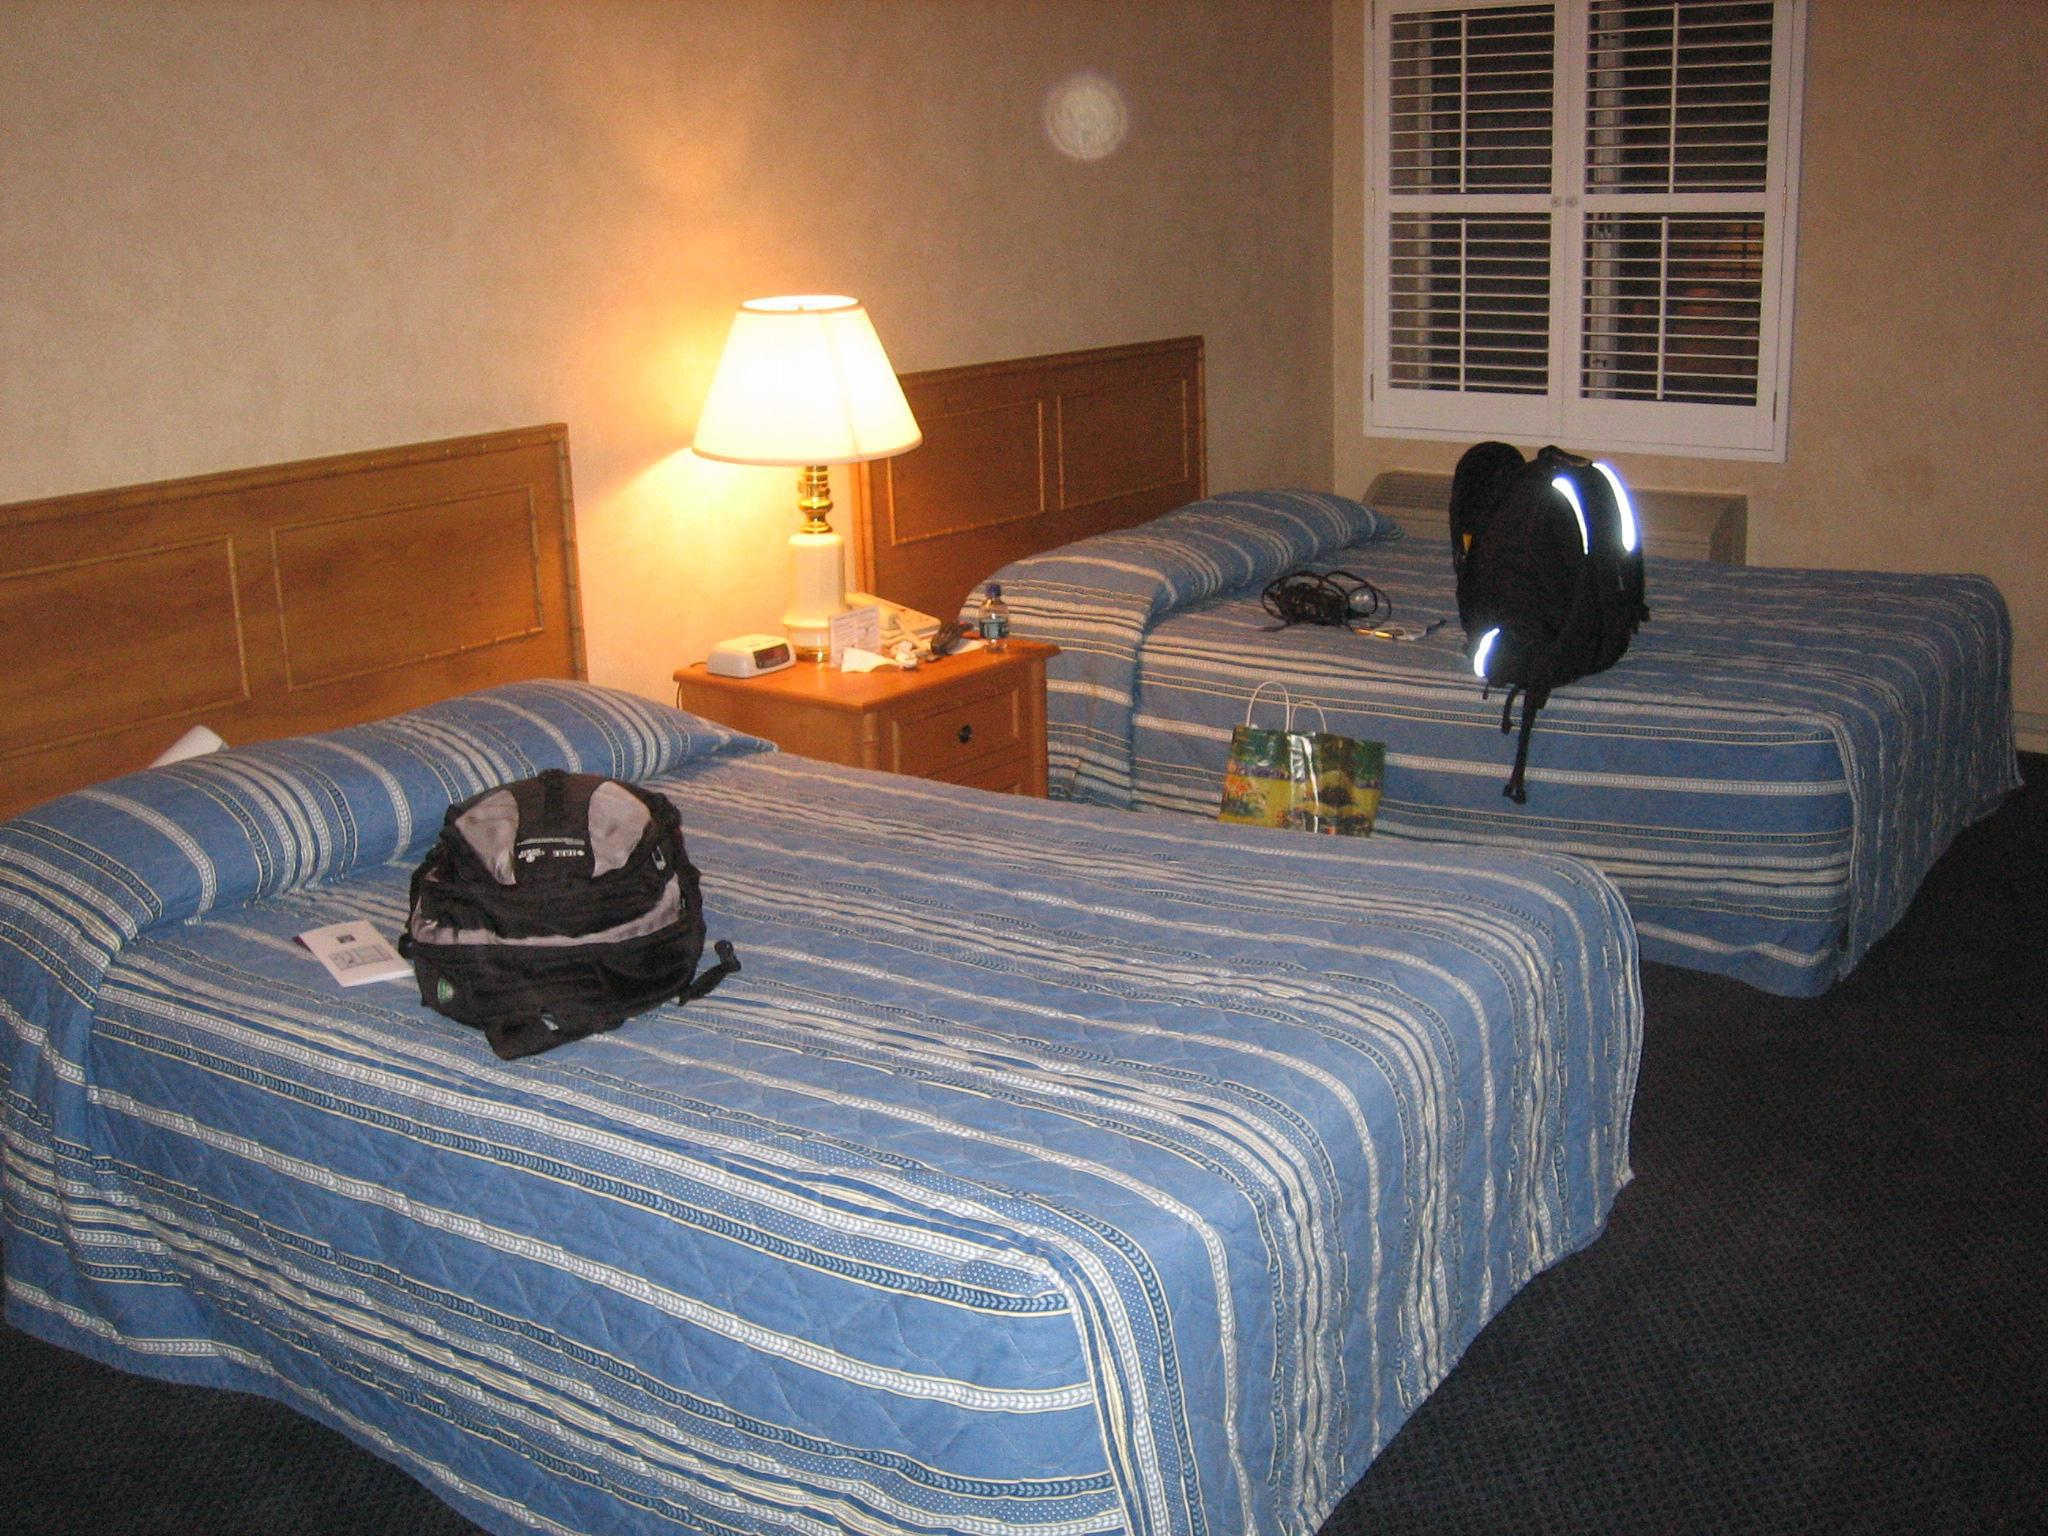Cama: (19, 413, 1638, 1520), (871, 328, 2025, 999)
Otro Obstaculo: (376, 749, 734, 1057), (1435, 450, 1656, 708), (1206, 674, 1393, 850)
Ventana: (1376, 2, 1777, 437)
